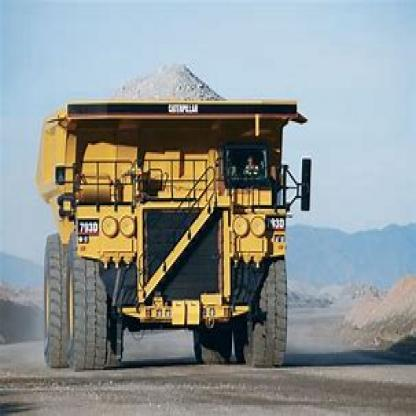dump_truck: (27, 55, 309, 385)
